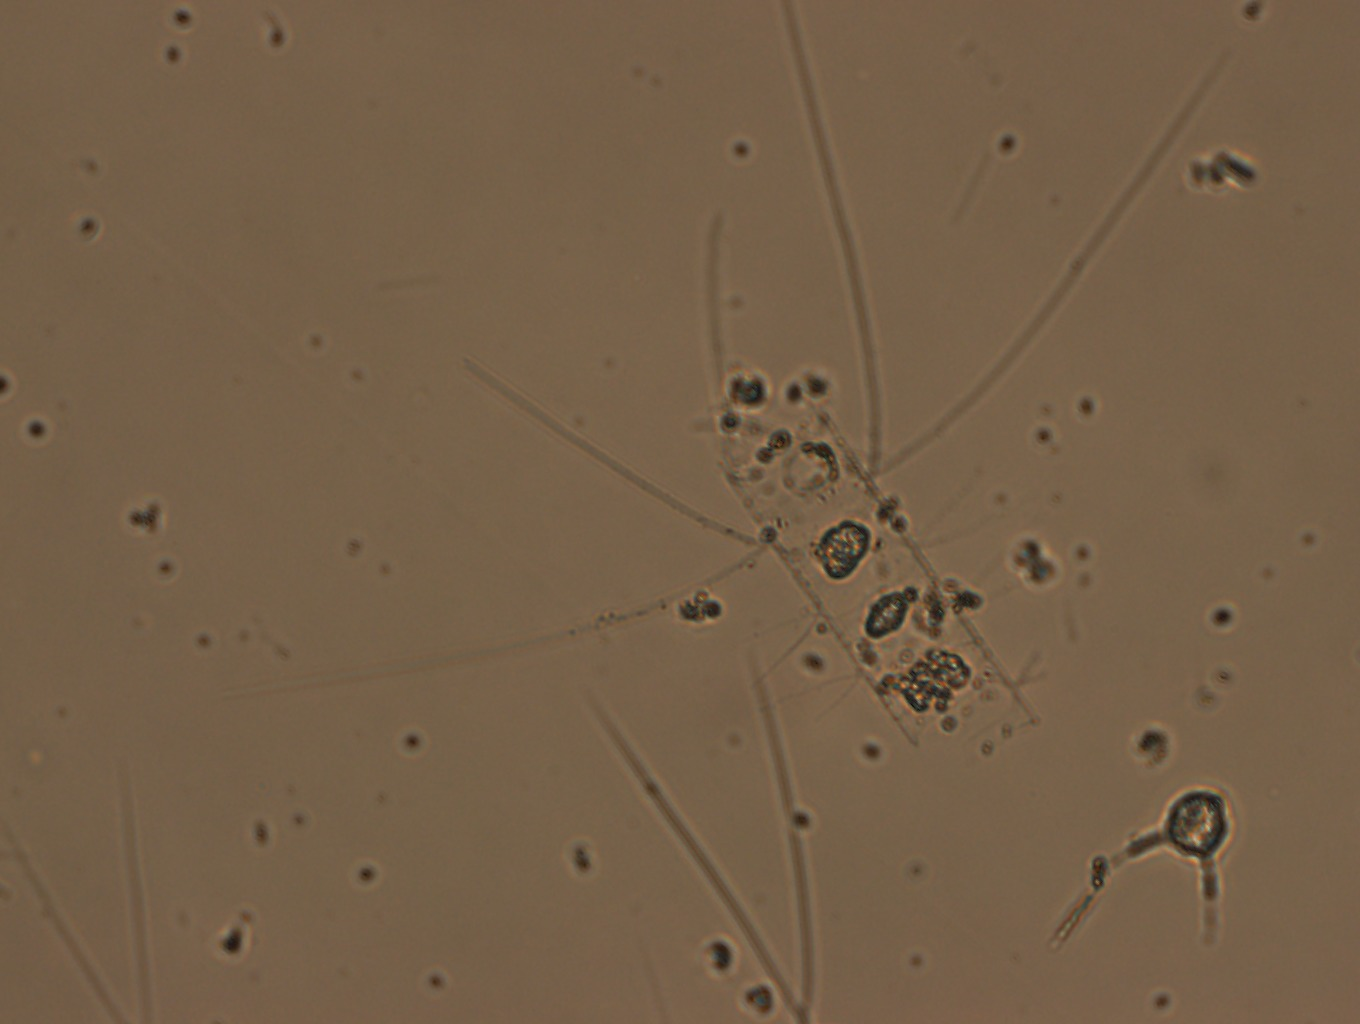chaetoceros: (220, 8, 1245, 763)
